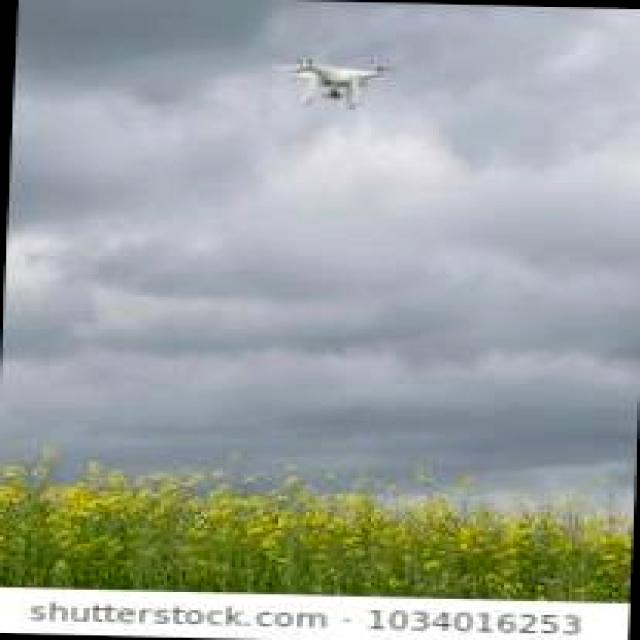drone: (274, 51, 385, 111)
